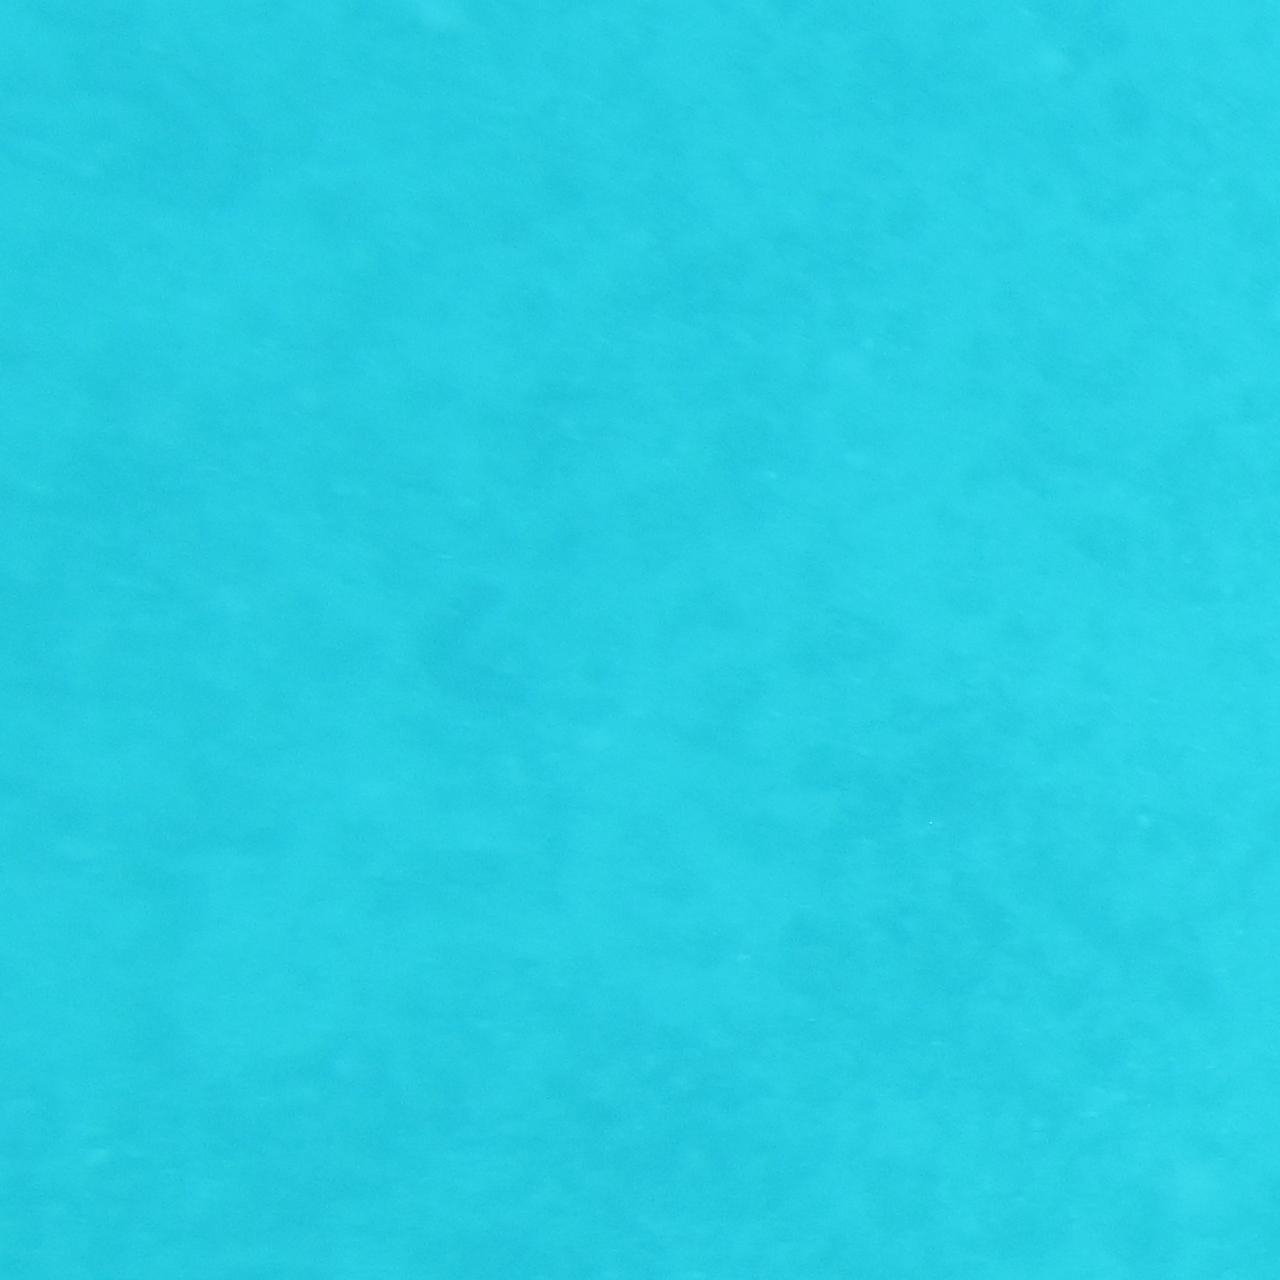Holothuria tubulosa: (408, 578, 526, 702)
